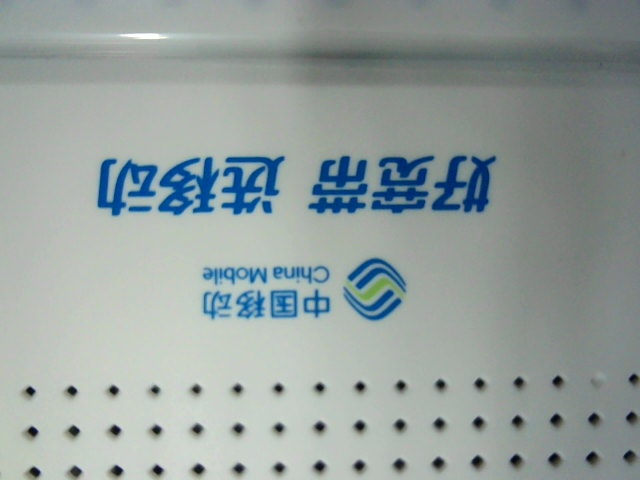AA_ChinaMobile: (81, 140, 501, 318)
